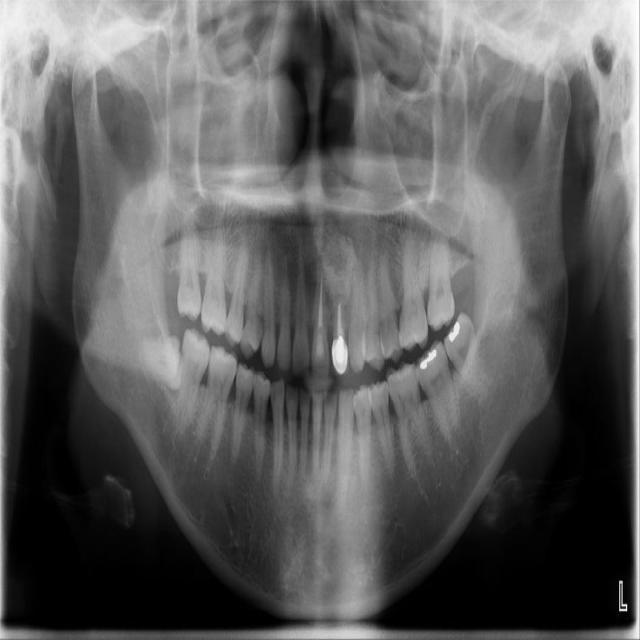52: (403, 337, 464, 400), (432, 309, 488, 370), (310, 331, 331, 380), (331, 335, 351, 378)
73: (312, 257, 327, 333), (330, 287, 346, 340), (600, 555, 602, 566)
BioHorizons Implant: (427, 220, 458, 334)
Biomet 3i Implant: (433, 307, 502, 407)
Blue Sky Bio Implant: (407, 335, 470, 443)
Caries: (177, 199, 202, 320)
Implant: (173, 325, 213, 437)
Keystone Dental Implant: (142, 332, 185, 395)
